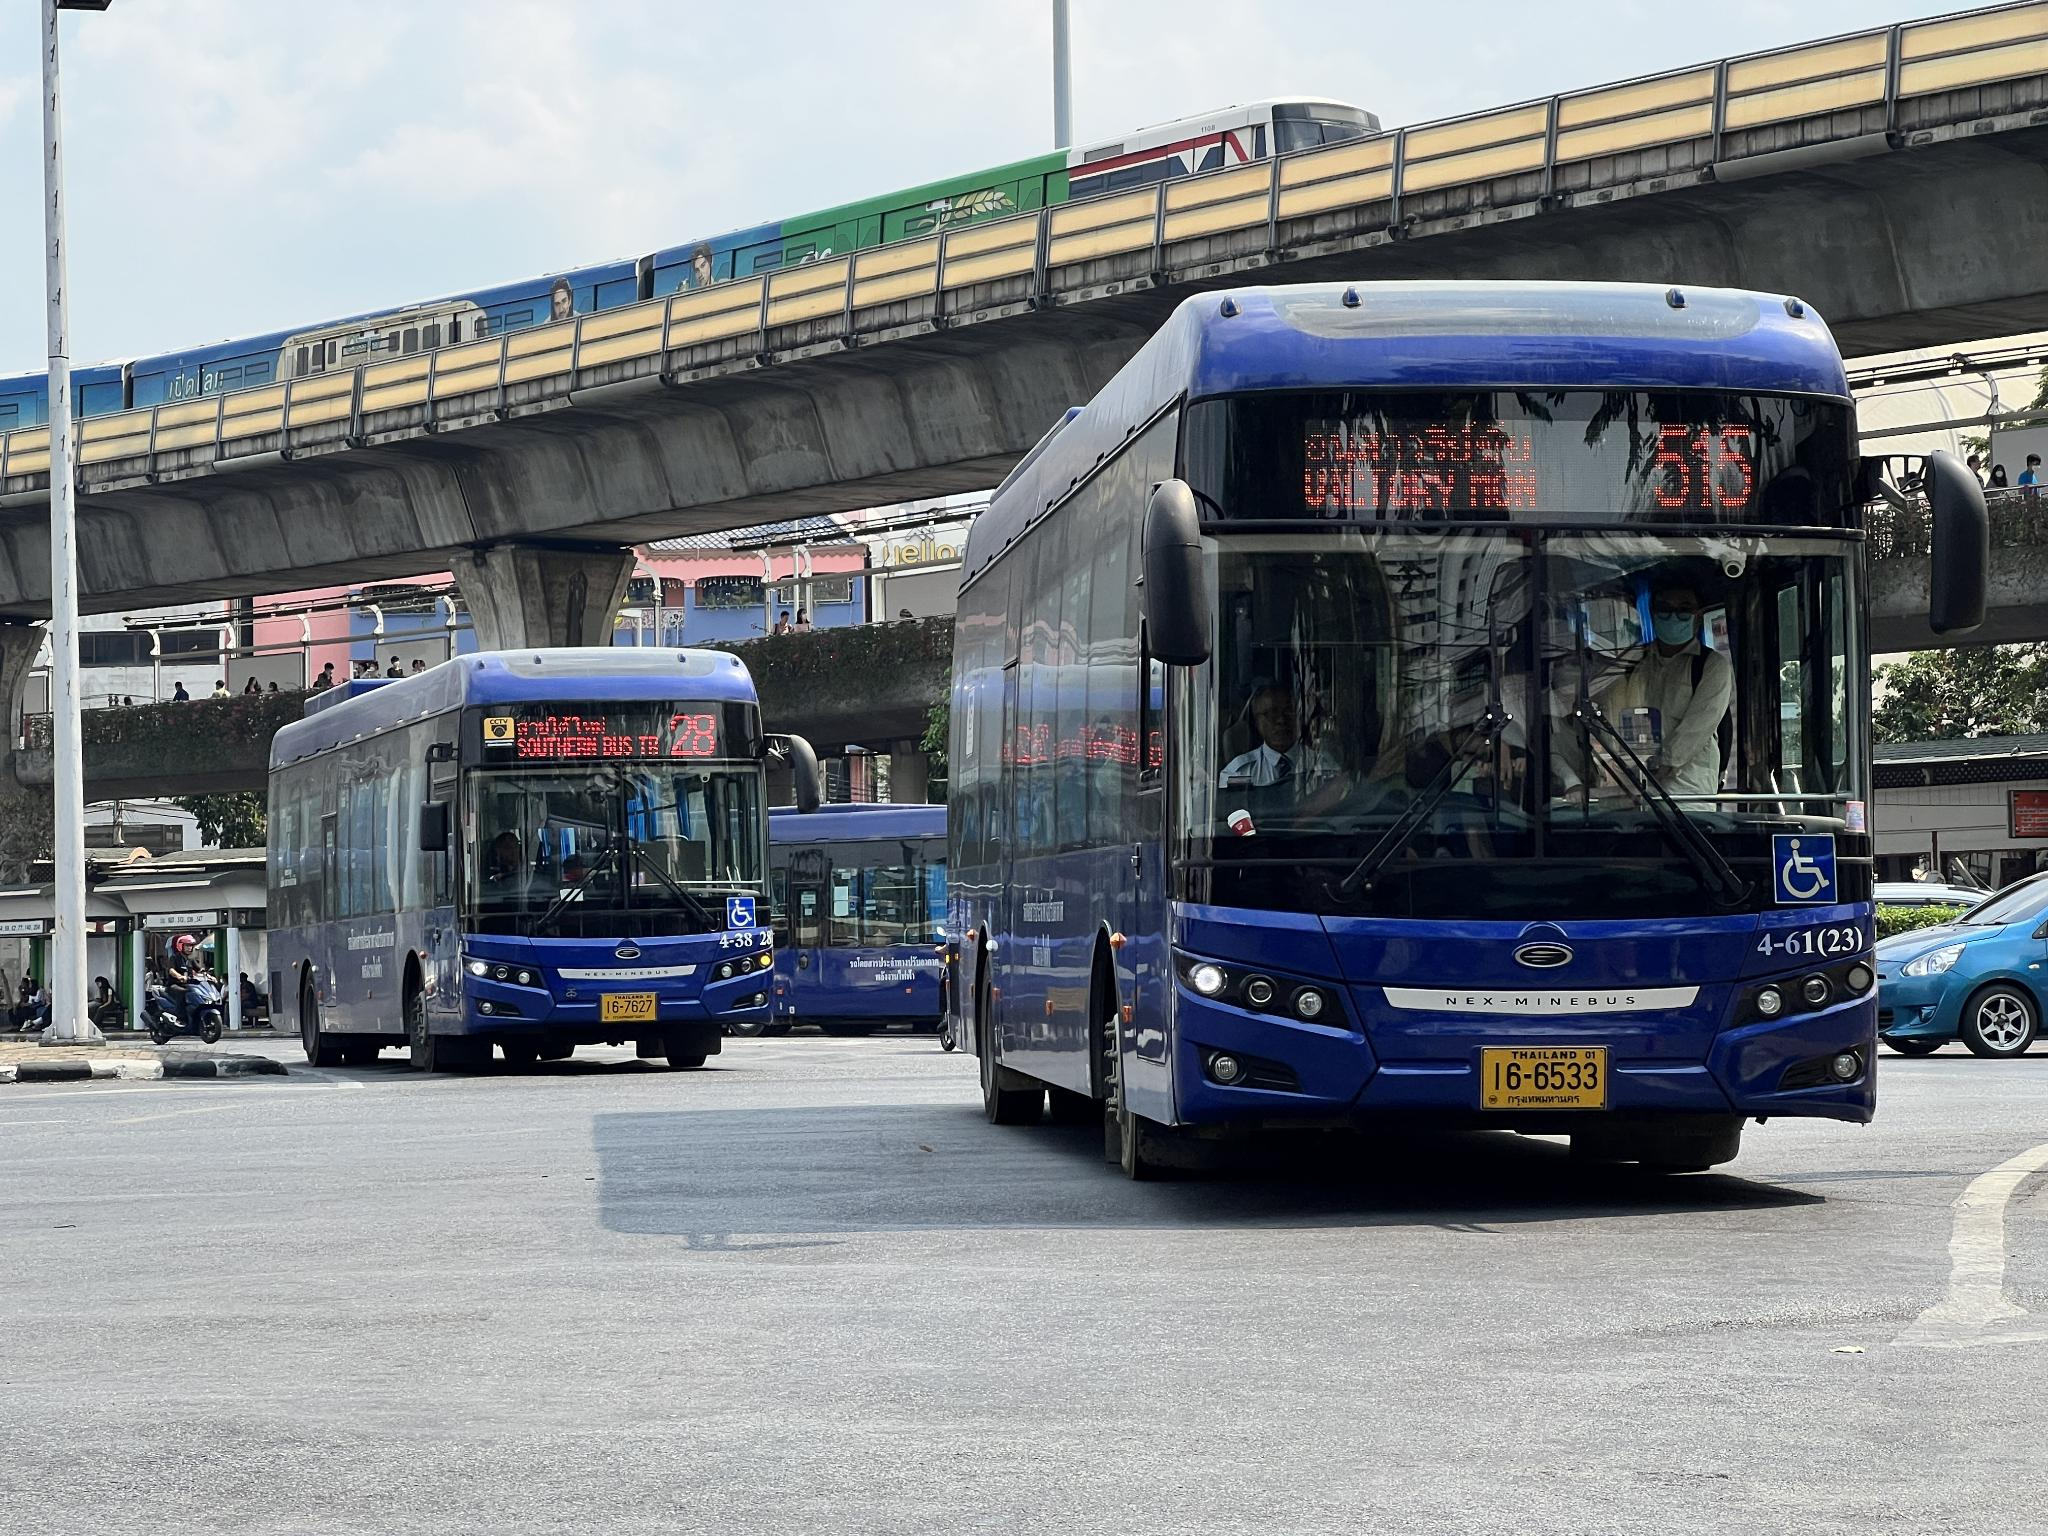Bus Line Number: (1638, 410, 1767, 516), (664, 708, 724, 758)
Bus Side Number: (1755, 921, 1863, 960), (714, 931, 772, 947)
Destination Sign: (1300, 413, 1550, 513), (514, 710, 661, 762)
TSB-Bus: (942, 279, 1880, 1178), (266, 645, 779, 1078), (756, 808, 951, 1037)
